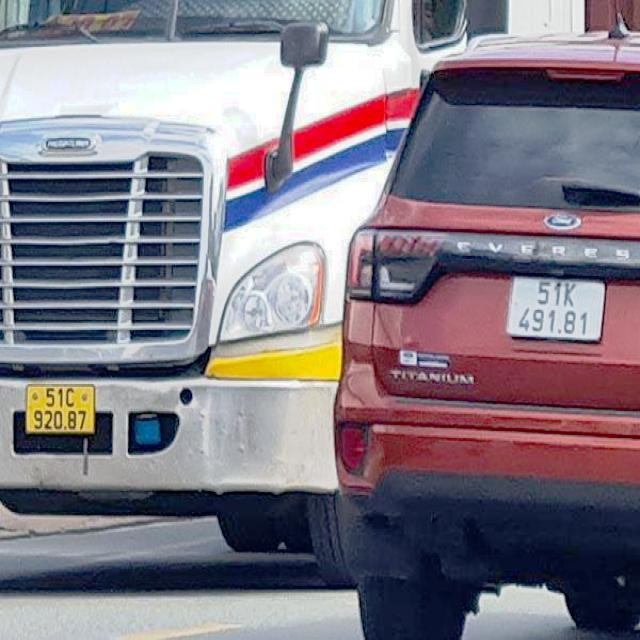license_plate: (512, 277, 608, 341), (26, 387, 94, 433)
